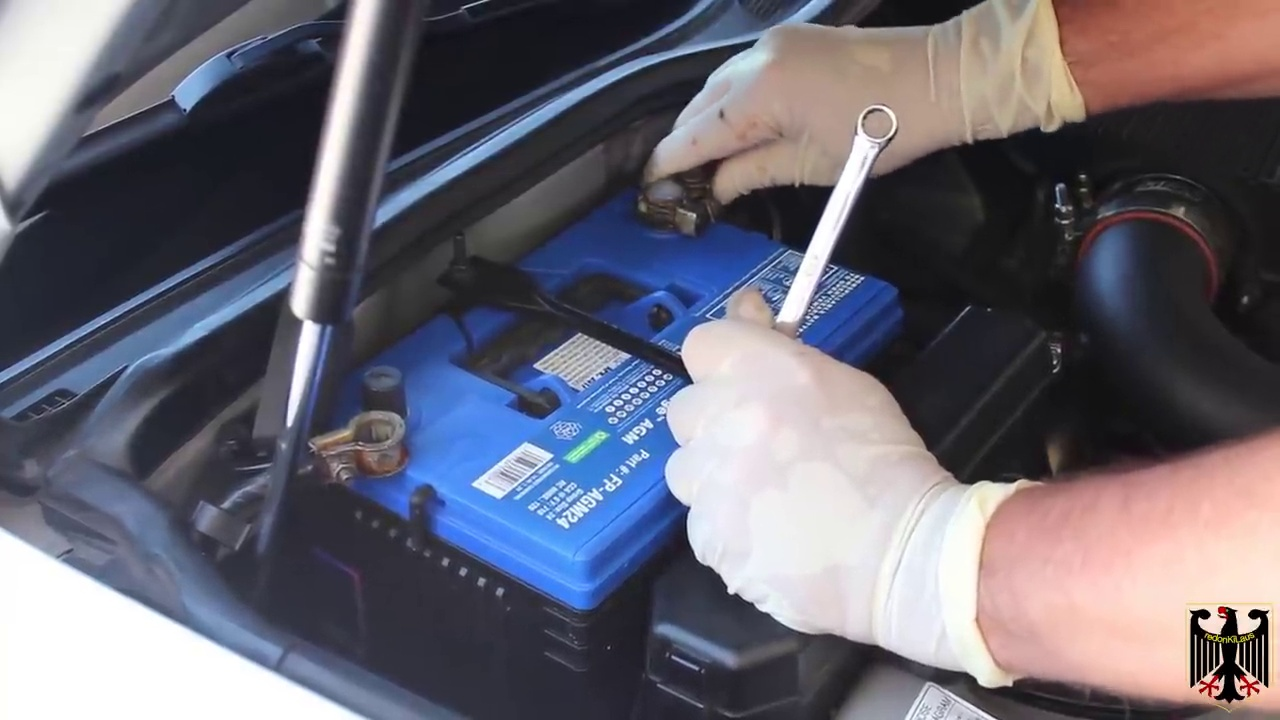battery: (290, 187, 903, 570)
